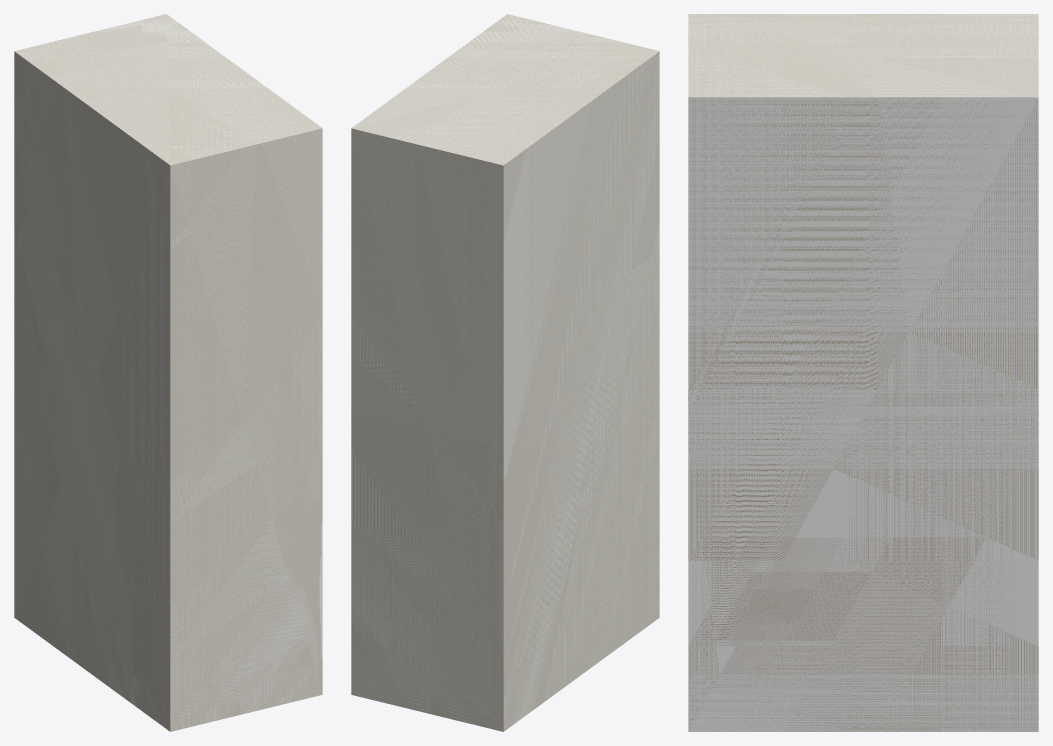
Rendered from cabinet_ikea_galant.obj.
The picture shows the model from 3 angles, left to right: view 1: azimuth 30°, elevation 25°; view 2: azimuth 150°, elevation 25°; view 3: azimuth 270°, elevation 25°; orthographic projection. The views are drawn at different scales.
Parts seen in each view (by area): view 1: cabinet_ikea_galant; view 2: cabinet_ikea_galant; view 3: cabinet_ikea_galant.
Part boxes in pixels (x1,y1,x2,y2): cabinet_ikea_galant: (14,14,322,731); cabinet_ikea_galant: (351,14,659,731); cabinet_ikea_galant: (688,14,1038,731).
Bounding box in the file's own units: 0.4503 × 1.6 × 0.7996.
3 materials, 2 textured.
